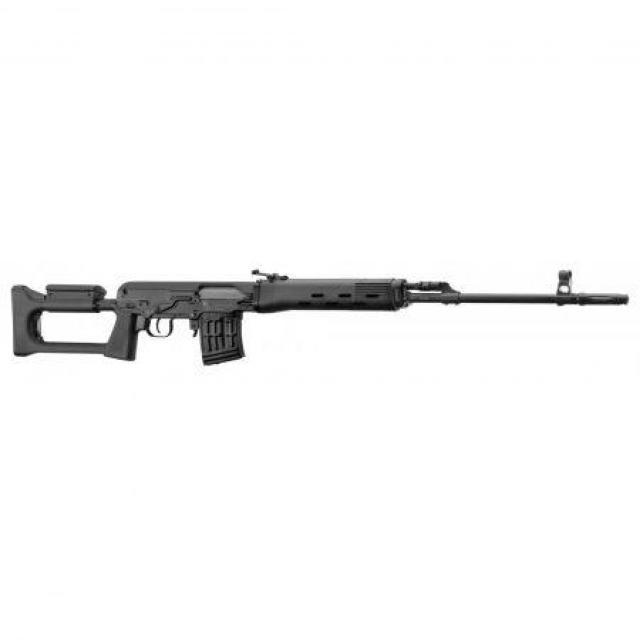weapon: (9, 268, 632, 368)
